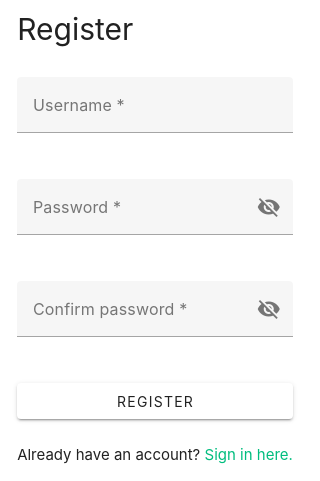
Test: Signup › validates the form on submit
The width and height of the screenshot is (320, 481).
Click the button with test id "button_submit". click: [155, 401]
box: [17,383,293,419]
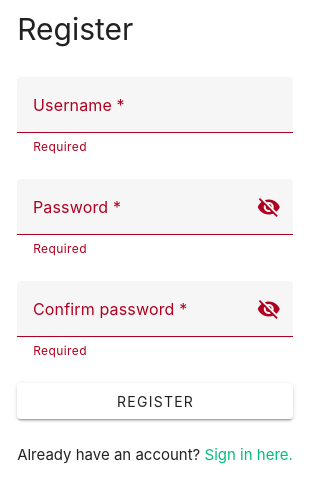
Now the text "Required" below "Username *" is shown, box [33,139,87,154]
Now the 2nd text "Required" is shown, box [33,241,87,256]
Now the text "Required" below "Confirm password *" is shown, box [33,343,87,358]
